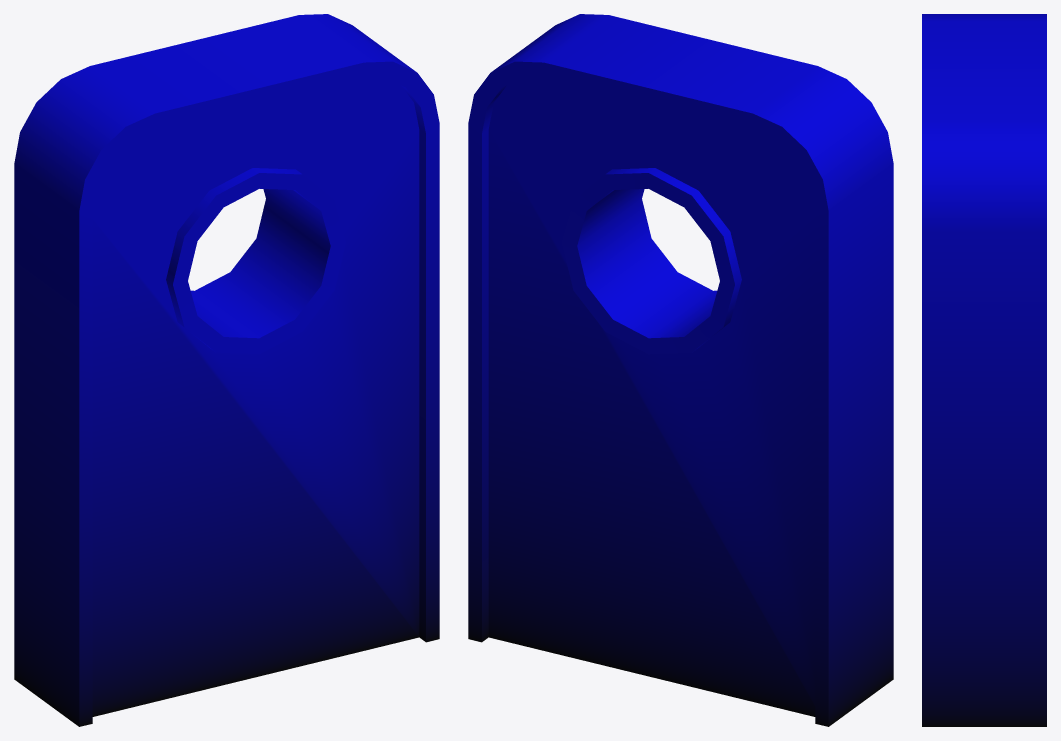
File: GeoRuinMonolith01.fbx
The picture shows the model from 3 angles, left to right: view 1: azimuth 30°, elevation 25°; view 2: azimuth 150°, elevation 25°; view 3: azimuth 270°, elevation 25°; orthographic projection. The views are drawn at different scales.
Parts seen in each view (by area): view 1: GeoRuinMonolith01_LOD0; view 2: GeoRuinMonolith01_LOD0; view 3: GeoRuinMonolith01_LOD0.
Part boxes in pixels (left/top/right/bottom): GeoRuinMonolith01_LOD0: left=14, top=14, right=439, bottom=726; GeoRuinMonolith01_LOD0: left=468, top=14, right=893, bottom=726; GeoRuinMonolith01_LOD0: left=922, top=14, right=1046, bottom=726.
Size of what is drawn, in the model's own units: 198 by 312 by 61.66.
